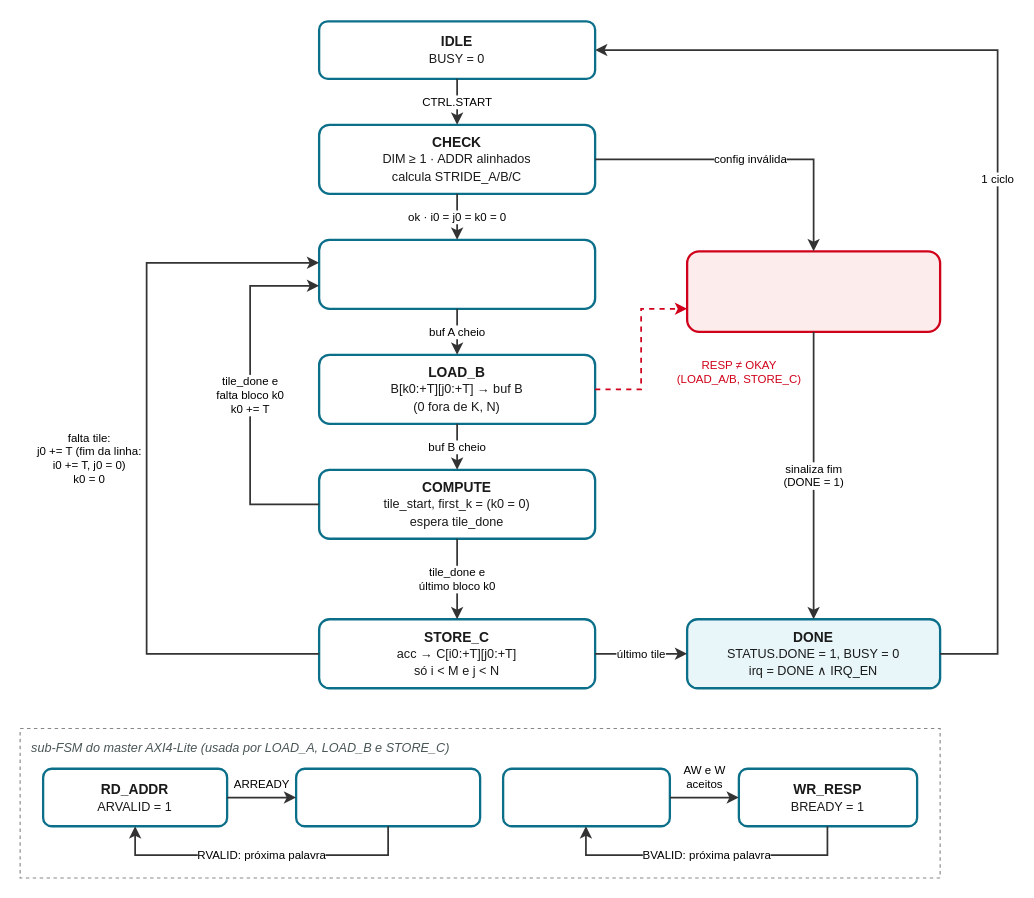
Image size: 1034x898. Some labels were removed from this diagram. Here are the shapes that lost their labels. From the top down, the centre of each, then its label:
At pixel 456 273: "LOAD_A A[i0:+T][k0:+T] → buf A (0 fora de M, K)".
At pixel 813 291: "ERROR STATUS.ERROR = 1 ERR_CODE".
At pixel 387 797: "RD_DATA RREADY = 1".
At pixel 585 797: "WR_REQ AWVALID = WVALID = 1".
